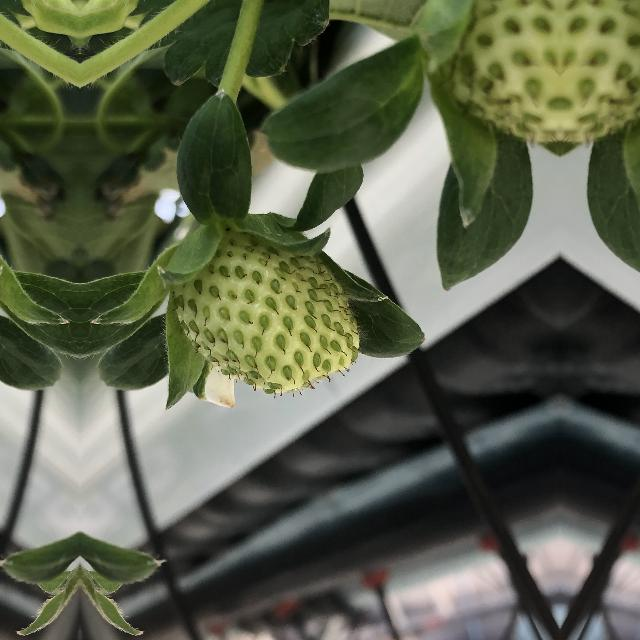Health_25: (165, 214, 368, 398)
